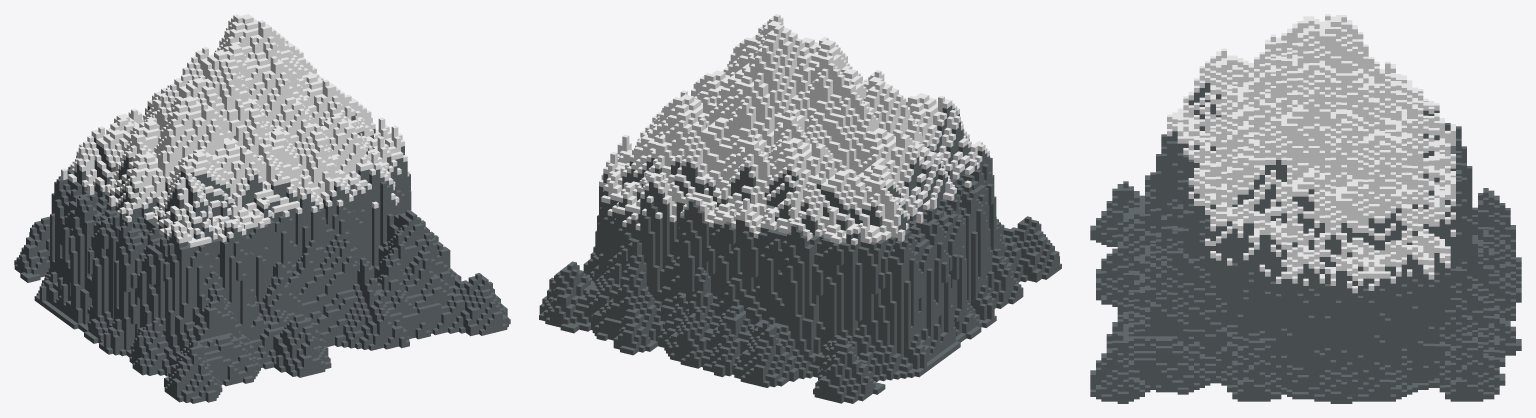
File: big_rocks_4_overtile.obj
The picture shows the model from 3 angles, left to right: view 1: azimuth 30°, elevation 25°; view 2: azimuth 150°, elevation 25°; view 3: azimuth 270°, elevation 25°; orthographic projection. The views are drawn at different scales.
Bounding box in the file's own units: 7.9 × 6 × 7.9.
Materials: 1 (1 with a texture image).
